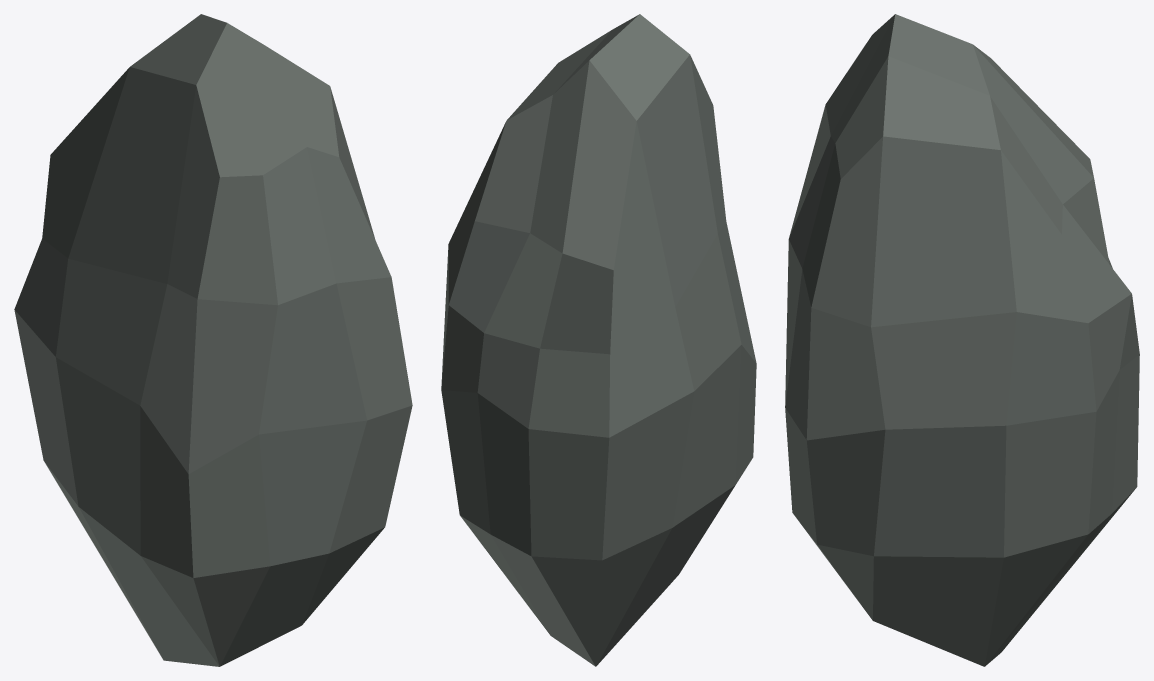
File: Large_Boulder.001.glb
The picture shows the model from 3 angles, left to right: view 1: azimuth 30°, elevation 25°; view 2: azimuth 150°, elevation 25°; view 3: azimuth 270°, elevation 25°; orthographic projection. The views are drawn at different scales.
Visible parts, largest first — view 1: Large_Boulder.001; view 2: Large_Boulder.001; view 3: Large_Boulder.001.
Boxes of the visible parts, x1,y1,x2,y2 form: Large_Boulder.001: (14, 14, 412, 666); Large_Boulder.001: (441, 14, 756, 666); Large_Boulder.001: (785, 14, 1139, 666).
Bounding box in the file's own units: 2.39 × 5.43 × 2.72.
1 material, 1 textured.
